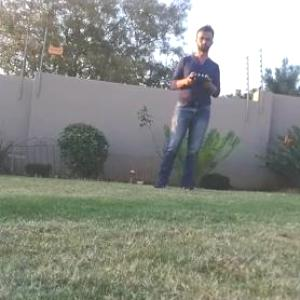follow: (146, 18, 222, 194)
